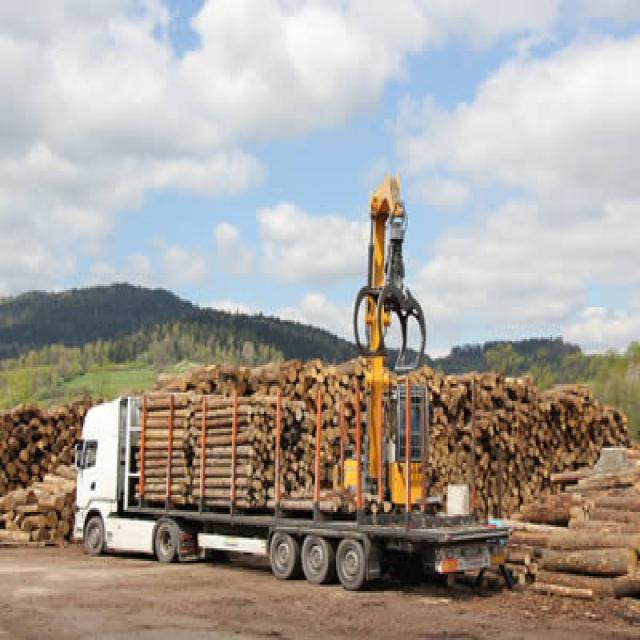Truck: (60, 362, 513, 582)
